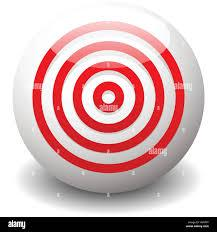target_red: (11, 2, 205, 195)
